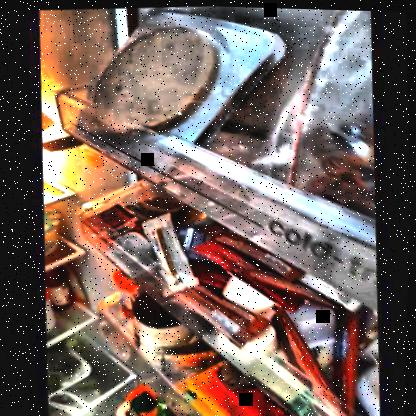salami: (85, 24, 213, 130)
